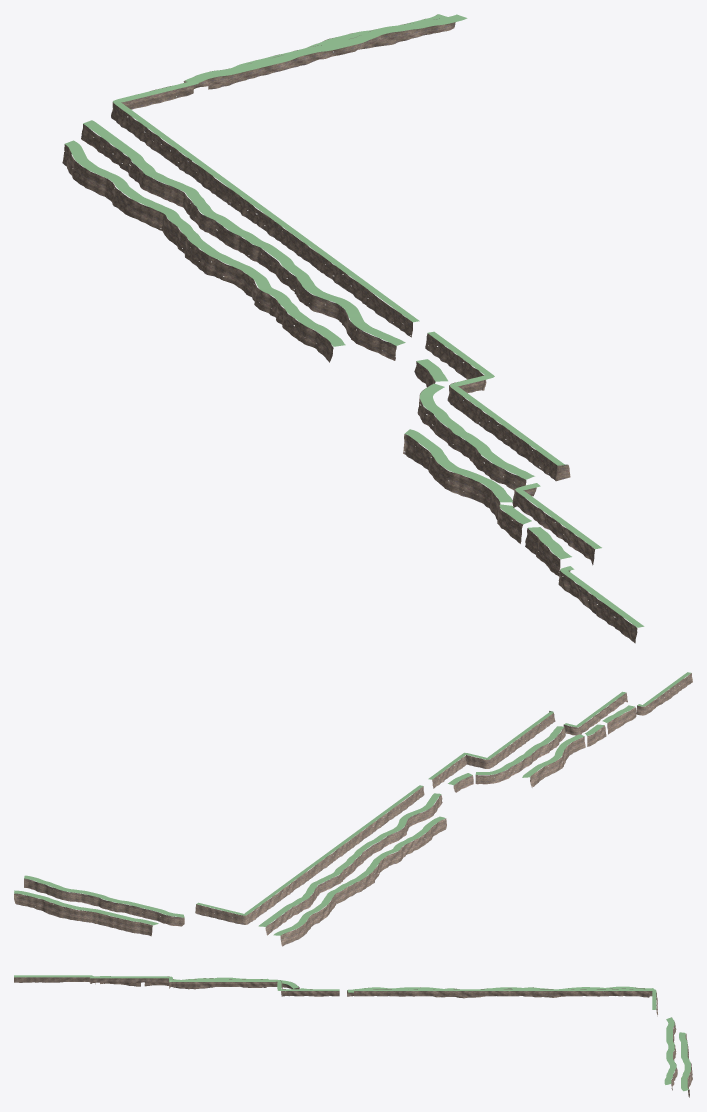
The model's file is CliffWall_palace_mesa_w.glb.
3 views of the same model, one above another, from view 1: azimuth 30°, elevation 25°; view 2: azimuth 150°, elevation 25°; view 3: azimuth 270°, elevation 25° (orthographic). The views are drawn at different scales.
Visible parts, largest first — view 1: CliffWall_palace_mesa_w-rock1, CliffWall_palace_mesa_w-rock8, CliffWall_palace_mesa_w-rock7, CliffWall_palace_mesa_w-lip7, CliffWall_palace_mesa_w-rock0, CliffWall_palace_mesa_w-lip8, CliffWall_palace_mesa_w-lip1, CliffWall_palace_mesa_w-lip4, CliffWall_palace_mesa_w-rock12, CliffWall_palace_mesa_w-rock4, CliffWall_palace_mesa_w-rock5, CliffWall_palace_mesa_w-lip5 (+4 smaller); view 2: CliffWall_palace_mesa_w-rock1, CliffWall_palace_mesa_w-rock8, CliffWall_palace_mesa_w-rock7, CliffWall_palace_mesa_w-rock9, CliffWall_palace_mesa_w-rock4, CliffWall_palace_mesa_w-lip7, CliffWall_palace_mesa_w-rock0, CliffWall_palace_mesa_w-lip8, CliffWall_palace_mesa_w-lip1, CliffWall_palace_mesa_w-rock5, CliffWall_palace_mesa_w-rock12, CliffWall_palace_mesa_w-lip4 (+5 smaller); view 3: CliffWall_palace_mesa_w-rock1, CliffWall_palace_mesa_w-rock0, CliffWall_palace_mesa_w-lip1, CliffWall_palace_mesa_w-lip4, CliffWall_palace_mesa_w-lip7, CliffWall_palace_mesa_w-rock3, CliffWall_palace_mesa_w-lip9, CliffWall_palace_mesa_w-rock2, CliffWall_palace_mesa_w-lip0, CliffWall_palace_mesa_w-lip2, CliffWall_palace_mesa_w-lip3.
Boxes of the visible parts, bbox=[...] form: CliffWall_palace_mesa_w-rock1: bbox=[111, 85, 412, 337]; CliffWall_palace_mesa_w-rock8: bbox=[62, 144, 333, 362]; CliffWall_palace_mesa_w-rock7: bbox=[81, 124, 396, 360]; CliffWall_palace_mesa_w-lip7: bbox=[83, 120, 405, 345]; CliffWall_palace_mesa_w-rock0: bbox=[425, 333, 570, 481]; CliffWall_palace_mesa_w-lip8: bbox=[65, 140, 345, 346]; CliffWall_palace_mesa_w-lip1: bbox=[113, 80, 419, 322]; CliffWall_palace_mesa_w-lip4: bbox=[185, 14, 467, 82]; CliffWall_palace_mesa_w-rock12: bbox=[403, 434, 500, 520]; CliffWall_palace_mesa_w-rock4: bbox=[183, 18, 455, 88]; CliffWall_palace_mesa_w-rock5: bbox=[417, 383, 526, 490]; CliffWall_palace_mesa_w-lip5: bbox=[420, 383, 534, 479]; CliffWall_palace_mesa_w-rock1: bbox=[195, 786, 424, 924]; CliffWall_palace_mesa_w-rock8: bbox=[280, 818, 446, 946]; CliffWall_palace_mesa_w-rock7: bbox=[265, 795, 442, 935]; CliffWall_palace_mesa_w-rock9: bbox=[14, 893, 152, 936]; CliffWall_palace_mesa_w-rock4: bbox=[24, 878, 184, 926]; CliffWall_palace_mesa_w-lip7: bbox=[258, 793, 441, 926]; CliffWall_palace_mesa_w-rock0: bbox=[432, 711, 555, 788]; CliffWall_palace_mesa_w-lip8: bbox=[273, 816, 445, 935]; CliffWall_palace_mesa_w-lip1: bbox=[196, 785, 423, 915]; CliffWall_palace_mesa_w-rock5: bbox=[475, 727, 565, 784]; CliffWall_palace_mesa_w-rock12: bbox=[530, 736, 585, 787]; CliffWall_palace_mesa_w-lip4: bbox=[24, 875, 184, 917]; CliffWall_palace_mesa_w-rock1: bbox=[354, 989, 657, 1016]; CliffWall_palace_mesa_w-rock0: bbox=[169, 979, 339, 996]; CliffWall_palace_mesa_w-lip1: bbox=[354, 989, 656, 1009]; CliffWall_palace_mesa_w-lip4: bbox=[664, 1017, 676, 1084]; CliffWall_palace_mesa_w-lip7: bbox=[347, 987, 653, 992]; CliffWall_palace_mesa_w-rock3: bbox=[14, 977, 95, 984]; CliffWall_palace_mesa_w-lip9: bbox=[679, 1032, 690, 1091]; CliffWall_palace_mesa_w-rock2: bbox=[90, 976, 173, 987]; CliffWall_palace_mesa_w-lip0: bbox=[169, 980, 339, 990]; CliffWall_palace_mesa_w-lip2: bbox=[90, 976, 172, 982]; CliffWall_palace_mesa_w-lip3: bbox=[14, 975, 93, 978].
Bounding box in the file's own units: 1558 × 137 × 3785.
4 materials, 1 textured.
